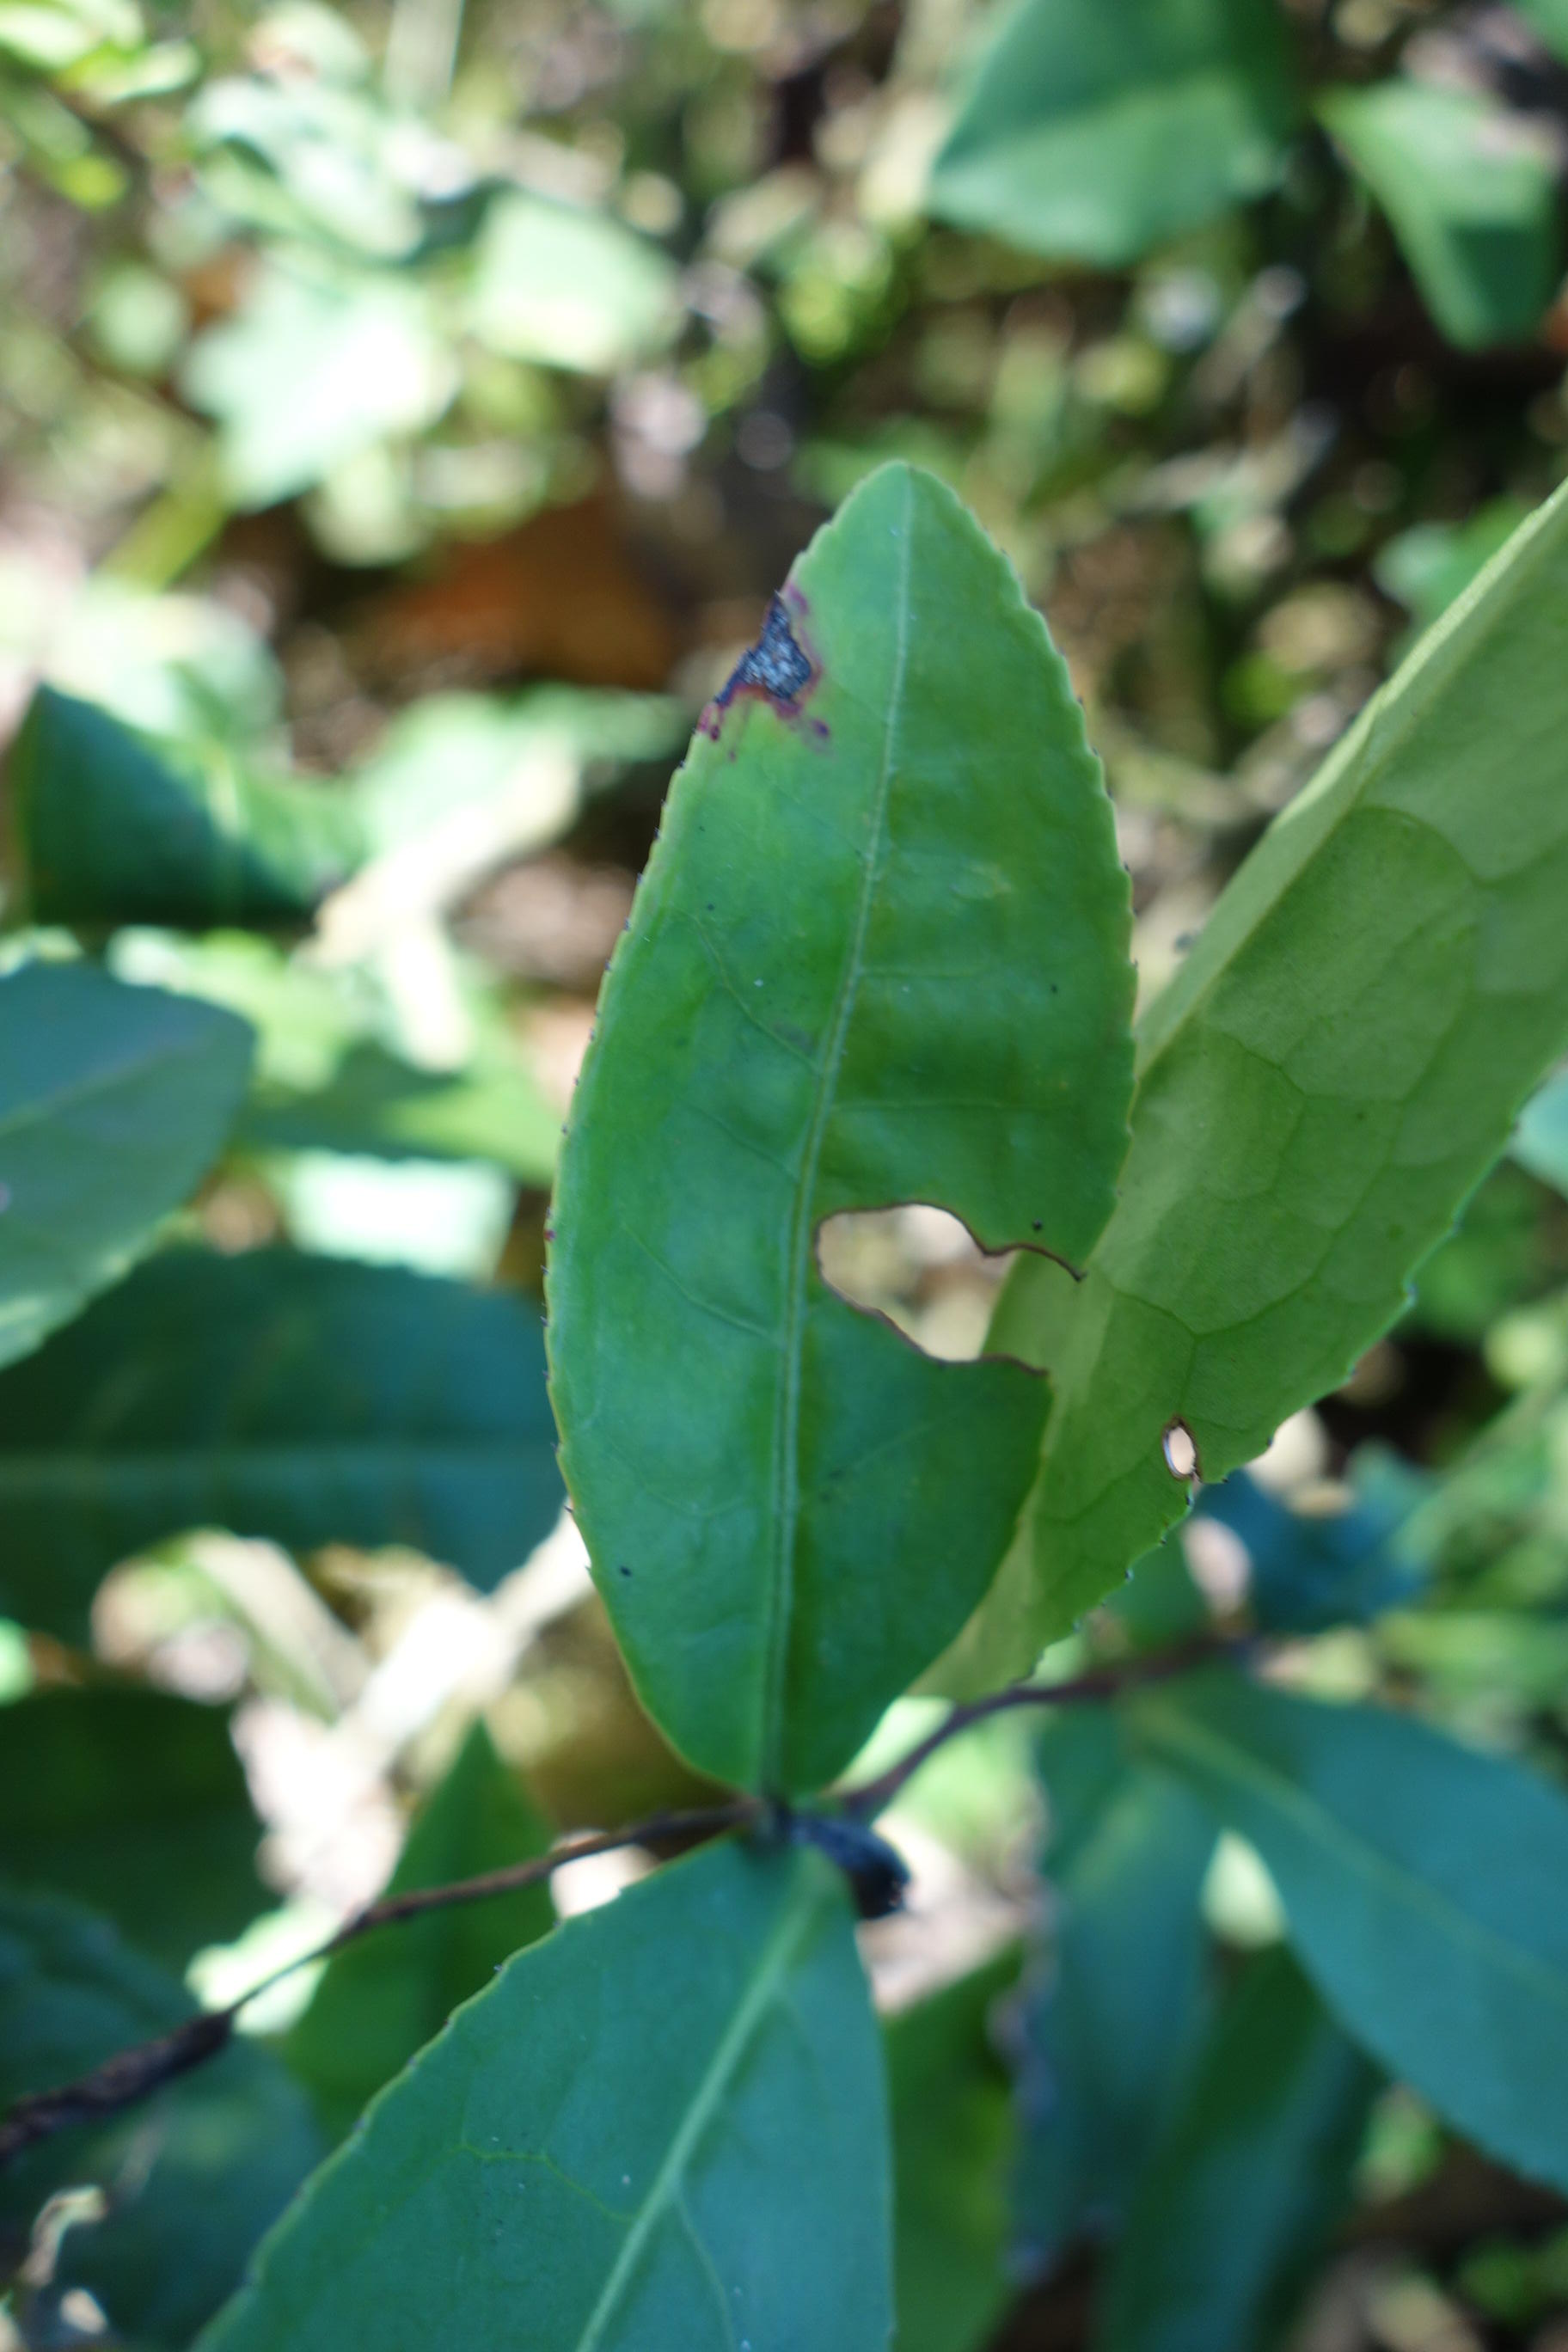chihuo_low: (542, 451, 1144, 1809), (1111, 474, 1568, 1603)
